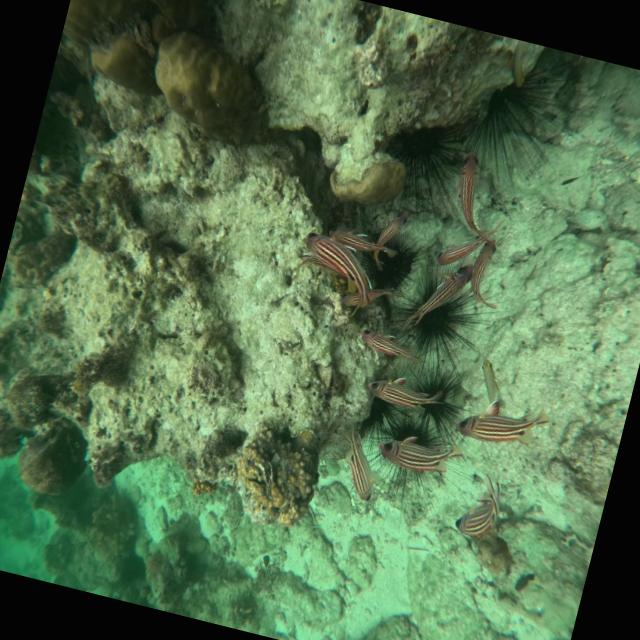Asker Baligi: (290, 222, 384, 308), (451, 388, 543, 458), (337, 310, 434, 376), (374, 416, 456, 484), (438, 476, 505, 556), (440, 147, 494, 240), (356, 359, 448, 412), (420, 258, 475, 326), (341, 434, 386, 496)
